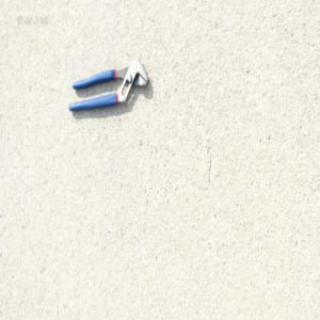Pliertrack_idkeyframe: (67, 56, 149, 113)
